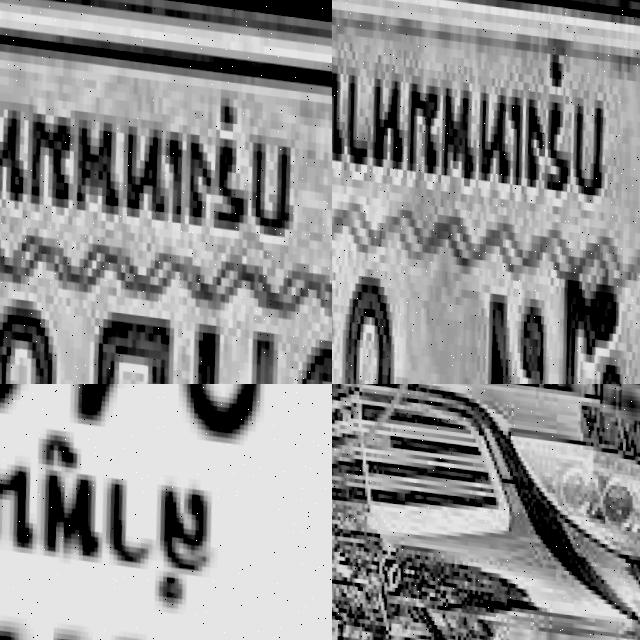license-plate: (0, 0, 332, 384), (332, 0, 640, 384), (0, 384, 332, 640)
